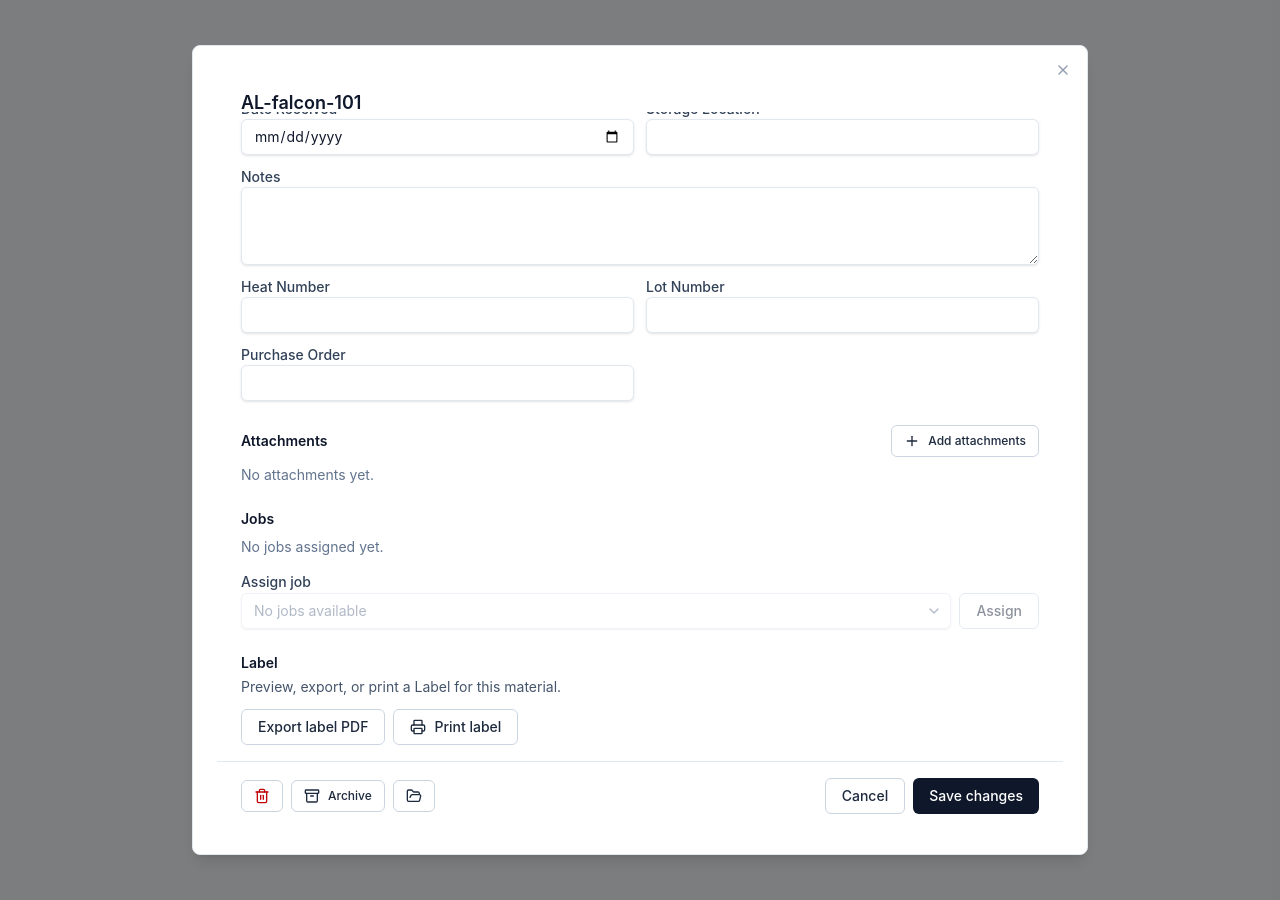
Test: MaterialDetailPanel label preview hub › opens the Label preview from Export without saving from detail
(page scrolled)
Click the button "Export label PDF".
click(313, 727)  # box [241,709,386,745]
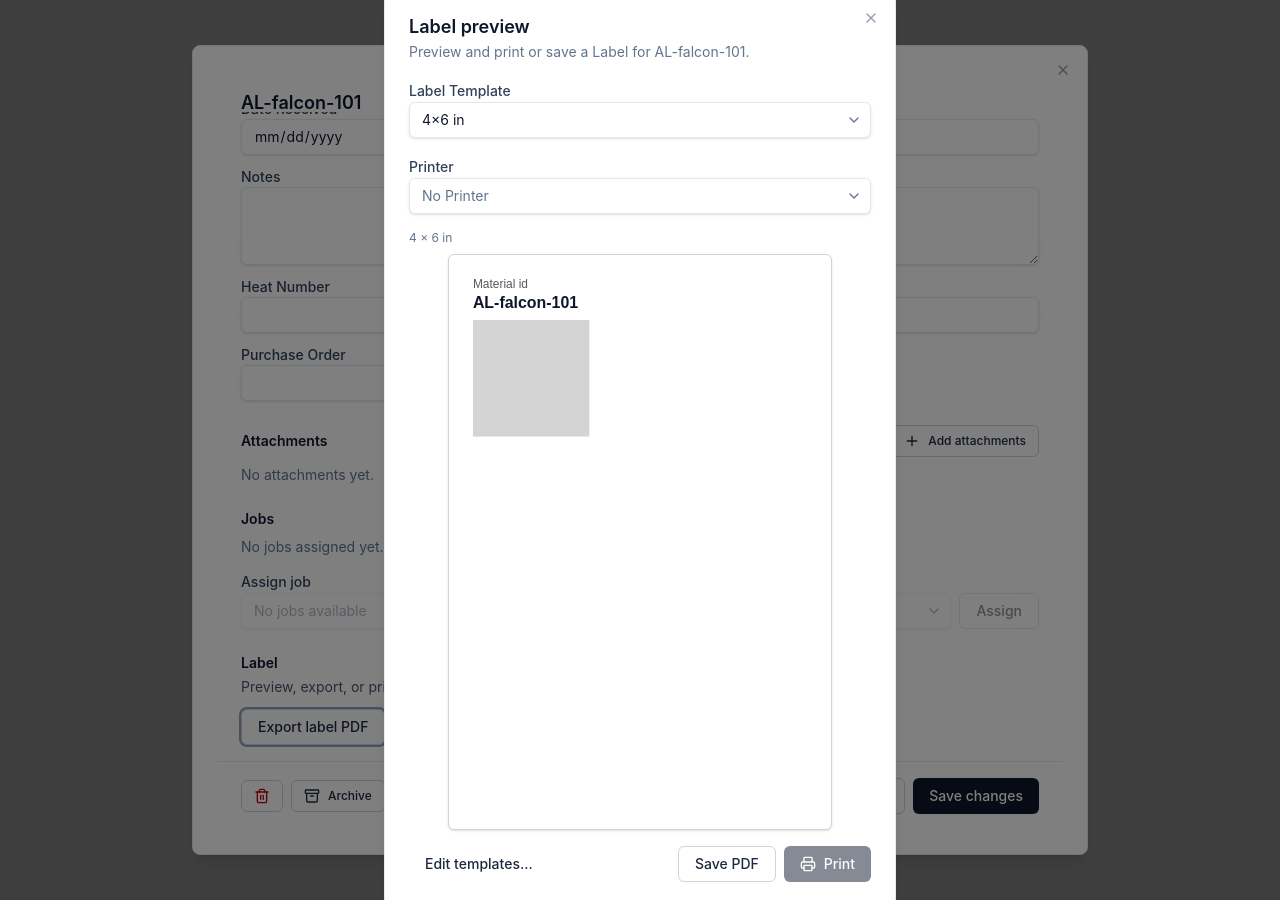
expect the heading "Label preview" is shown: met, box [409,16,530,37]
